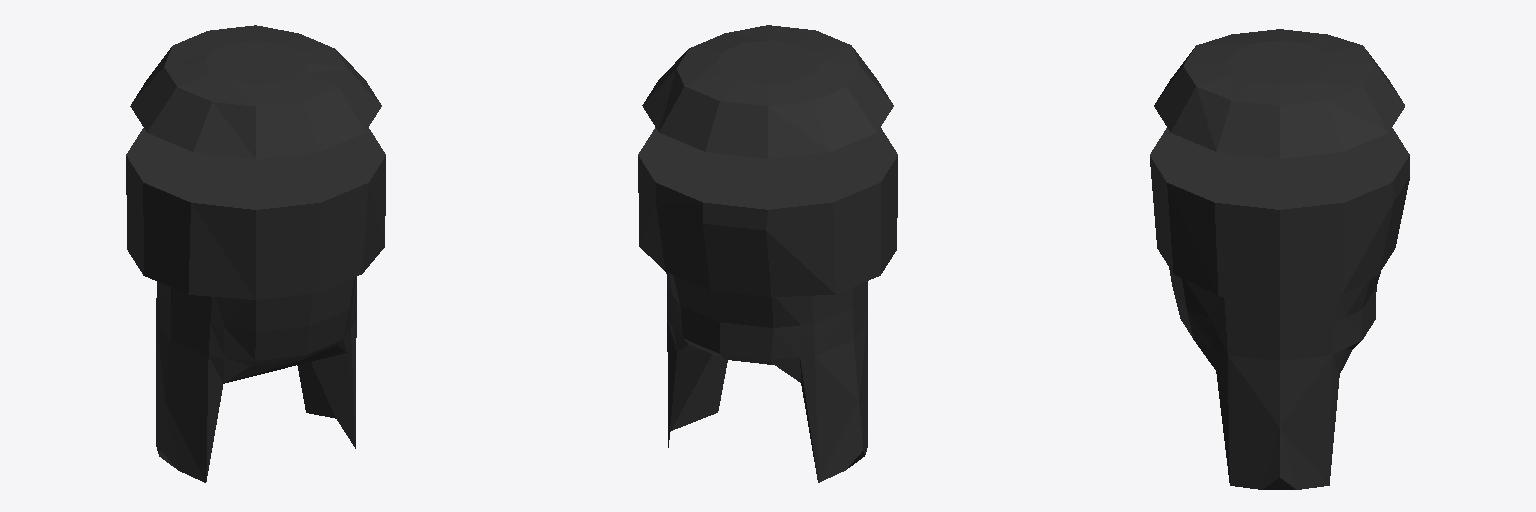
The model's file is Drone.Wheel.Body.obj.
3 views of the same model, side by side, from view 1: azimuth 30°, elevation 25°; view 2: azimuth 150°, elevation 25°; view 3: azimuth 270°, elevation 25° (orthographic).
Parts seen in each view (by area): view 1: Figure_1; view 2: Figure_1; view 3: Figure_1.
Part boxes in pixels (x1,y1,x2,y2): Figure_1: (126, 25, 385, 482); Figure_1: (638, 25, 897, 482); Figure_1: (1150, 29, 1409, 489).
Size of the model in its own units: 0.4617 by 0.7565 by 0.4627.